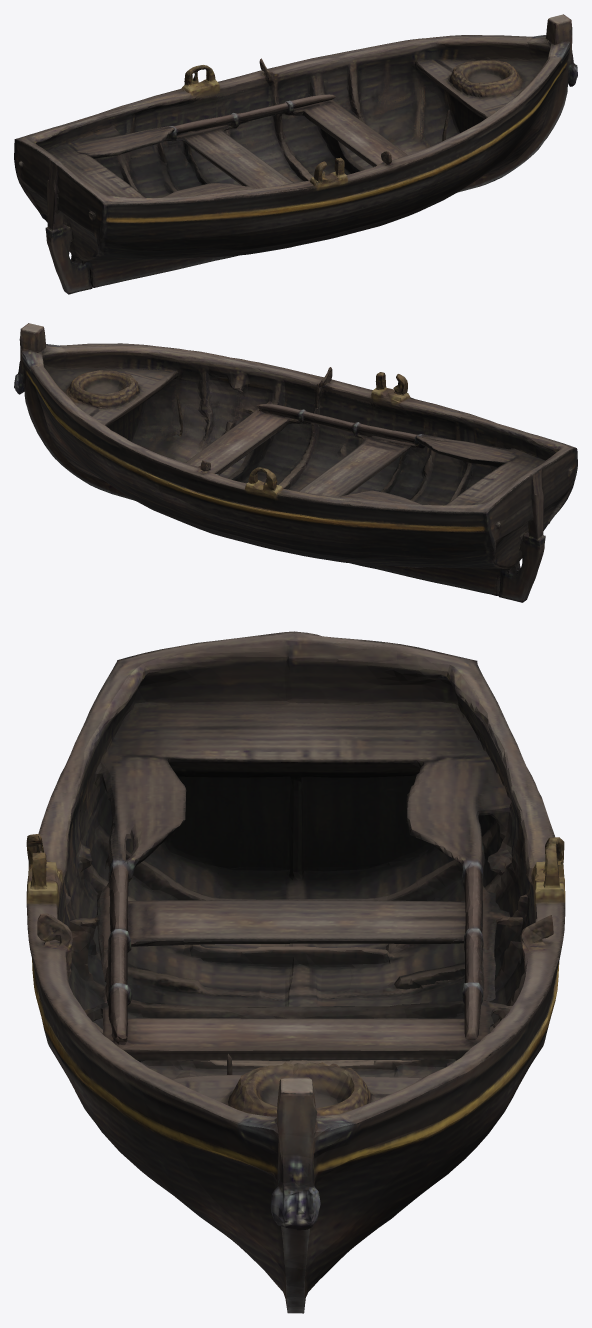
The model's file is skiff-trellis.glb.
The picture shows the model from 3 angles, top to bottom: view 1: azimuth 30°, elevation 25°; view 2: azimuth 150°, elevation 25°; view 3: azimuth 270°, elevation 25°; orthographic projection. The views are drawn at different scales.
Visible parts, largest first — view 1: world; view 2: world; view 3: world.
Part boxes in pixels (left/top/right/bottom): world: left=14, top=14, right=577, bottom=294; world: left=14, top=323, right=577, bottom=602; world: left=26, top=631, right=565, bottom=1313.
Size of the model in its own units: 0.998 by 0.2833 by 0.4433.
1 material, 1 textured.
